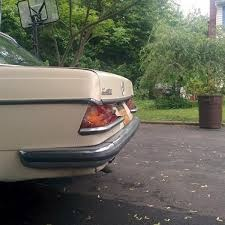Broken-glass: (78, 92, 136, 154)
